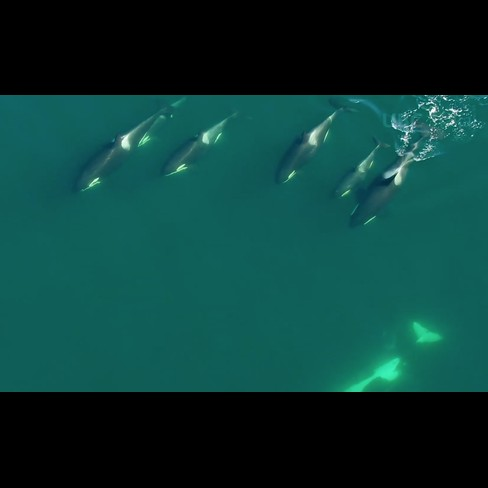orca: (60, 95, 194, 197), (337, 117, 441, 234), (271, 96, 362, 190), (153, 104, 253, 182), (325, 132, 399, 211)
